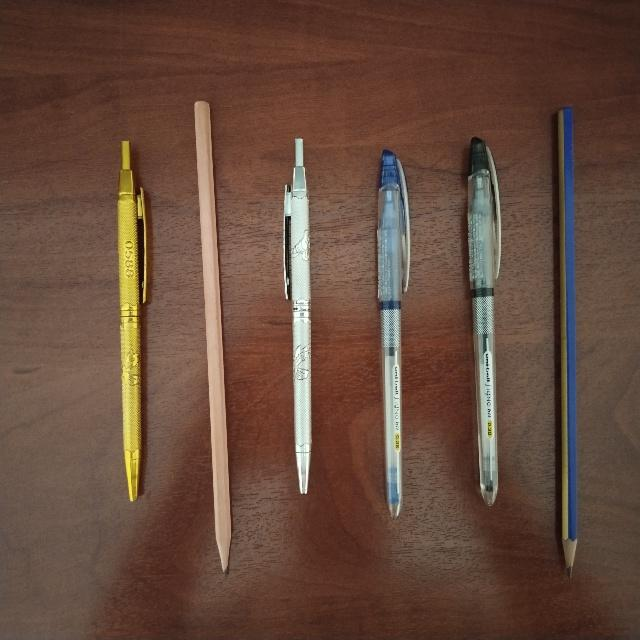pen: (468, 137, 500, 504), (377, 150, 409, 517)
pencil: (194, 101, 230, 574), (558, 107, 576, 576)
signature pen: (117, 141, 145, 500), (283, 138, 311, 493)
